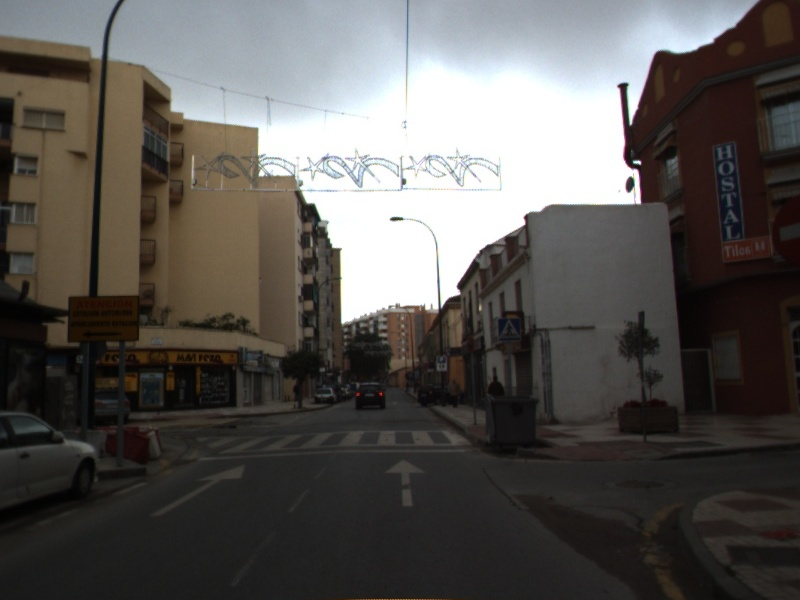STRAIGHT: (147, 462, 247, 519), (382, 457, 429, 509)
